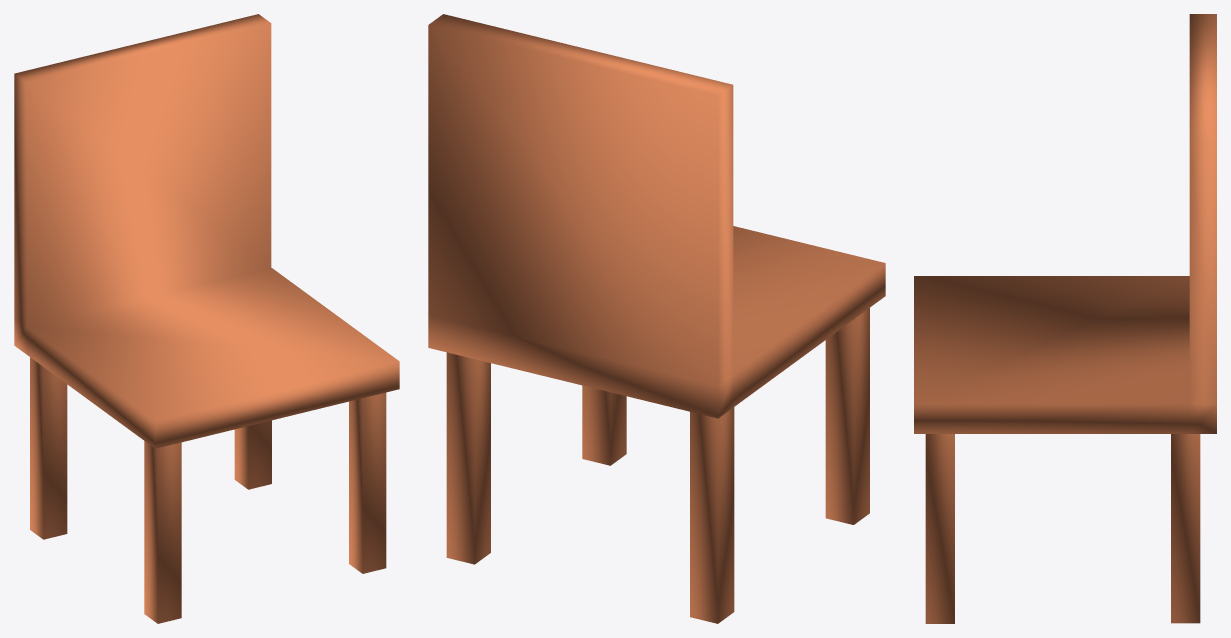
Rendered from chair.glb.
3 views of the same model, side by side, from view 1: azimuth 30°, elevation 25°; view 2: azimuth 150°, elevation 25°; view 3: azimuth 270°, elevation 25° (orthographic). The views are drawn at different scales.
Visible parts, largest first — view 1: Cube.001, Cube.002; view 2: Cube.001, Cube.002; view 3: Cube.001, Cube.002.
Boxes of the visible parts, box(x1,y1,x2,y2) form: Cube.001: box(14, 14, 399, 448); Cube.002: box(30, 357, 386, 623); Cube.001: box(428, 14, 885, 418); Cube.002: box(446, 308, 869, 623); Cube.001: box(914, 14, 1216, 433); Cube.002: box(925, 434, 1200, 623).
Bounding box in the file's own units: 0.8977 × 1.59 × 0.8977.
